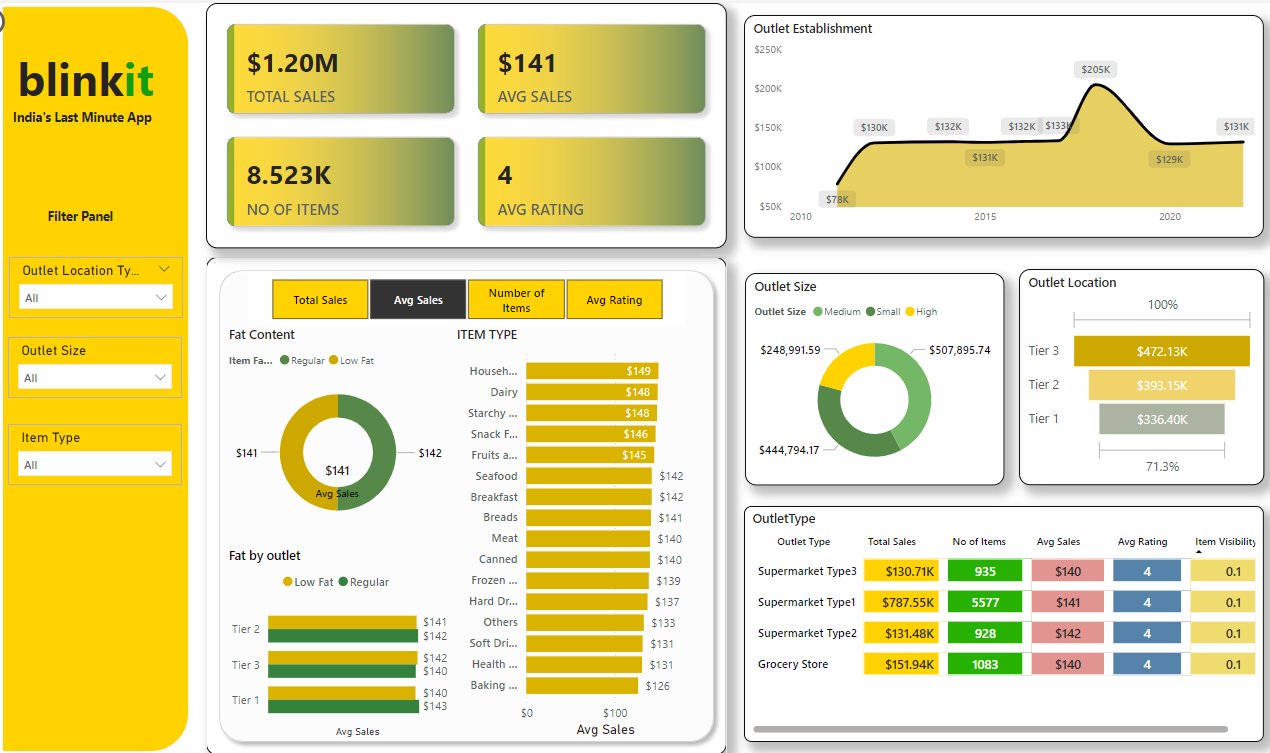

The page's visual inventory and layout, read from the dashboard file:
{"tool":"powerbi","page":{"name":"Page 1","canvas":[1400,800],"ordinal":0},"visuals":[{"type":"shape","box":[28.7,0,205.3,800],"z":0},{"type":"textbox","box":[18.1,41.5,205.3,79.8],"z":1000},{"type":"textbox","box":[38.3,107.4,166,27.7],"z":2000},{"type":"funnel","title":"Outlet Location","fields":{"Y":["BlinkIT Grocery Data.Total Sales"],"Category":["BlinkIT Grocery Data.Outlet Location Type"]},"box":[1113.8,283,260.6,229.8],"z":3000},{"type":"actionButton","box":[0,0,100,40],"z":4000},{"type":"shape","box":[248.9,270.2,554.3,529.8],"z":5000},{"type":"donutChart","title":"Fat Content","fields":{"Y":["BlinkIT Grocery Data.Avg Sales"],"Category":["BlinkIT Grocery Data.Item Fat Content"]},"box":[268.1,343.6,242.6,224.5],"z":6000},{"type":"slicer","fields":{"Values":["metrics.metrics"]},"box":[293.6,287.2,464.9,56.4],"z":7000},{"type":"cardVisual","fields":{"Data":["BlinkIT Grocery Data.Avg Sales"]},"box":[342.6,470.2,92.6,75.5],"z":8000},{"type":"clusteredBarChart","title":"Fat by outlet","fields":{"Y":["BlinkIT Grocery Data.Avg Sales"],"Series":["BlinkIT Grocery Data.Item Fat Content"],"Category":["BlinkIT Grocery Data.Outlet Location Type"]},"box":[268.1,578.7,242.6,207.4],"z":9000},{"type":"barChart","title":"ITEM TYPE","fields":{"Y":["BlinkIT Grocery Data.Avg Sales"],"Category":["BlinkIT Grocery Data.Item Type"]},"box":[510.6,343.6,266,442.6],"z":10000},{"type":"lineChart","title":" Outlet Establishment","fields":{"Y":["BlinkIT Grocery Data.Total Sales"],"Category":["BlinkIT Grocery Data.Outlet Establishment Year"]},"box":[821.3,12.8,553.2,237.2],"z":11000},{"type":"donutChart","title":"Outlet Size","fields":{"Y":["BlinkIT Grocery Data.Total Sales"],"Category":["BlinkIT Grocery Data.Outlet Size"]},"box":[822.3,287.2,275.5,225.5],"z":12000},{"type":"slicer","title":"Outlet Location","fields":{"Values":["BlinkIT Grocery Data.Outlet Location Type"]},"box":[39.4,270.2,185.1,64.9],"z":13000},{"type":"pivotTable","title":"OutletType","fields":{"Rows":["BlinkIT Grocery Data.Outlet Type"],"Values":["BlinkIT Grocery Data.Total Sales","BlinkIT Grocery Data.Number of Items","BlinkIT Grocery Data.Avg Sales","BlinkIT Grocery Data.Avg Rating","Avg(BlinkIT Grocery Data.Item Visibility)"]},"box":[821.3,535.1,553.2,251.1],"z":14000},{"type":"slicer","title":"Outlet Location","fields":{"Values":["BlinkIT Grocery Data.Outlet Size"]},"box":[38.3,355.3,185.1,64.9],"z":15000},{"type":"slicer","title":"Outlet Location","fields":{"Values":["BlinkIT Grocery Data.Item Type"]},"box":[38.3,447.9,185.1,64.9],"z":16000},{"type":"cardVisual","fields":{"Data":["BlinkIT Grocery Data.Total Sales","BlinkIT Grocery Data.Avg Sales","BlinkIT Grocery Data.Number of Items","BlinkIT Grocery Data.Avg Rating"]},"box":[248.9,0,554.3,260.6],"z":17000},{"type":"textbox","box":[50,212.8,134,37.2],"z":17001}]}

Visuals, with their boxes in screenshot pixels (x1, y1, x2, y2):
shape: Rect(10, 3, 200, 745)
textbox: Rect(0, 42, 191, 116)
textbox: Rect(19, 103, 173, 129)
"Outlet Location" funnel: Rect(1016, 266, 1258, 479)
actionButton: Rect(0, 3, 76, 40)
shape: Rect(214, 254, 728, 745)
"Fat Content" donutChart: Rect(232, 322, 457, 530)
slicer - metrics.metrics: Rect(256, 270, 687, 322)
cardVisual - BlinkIT Grocery Data.Avg Sales: Rect(301, 439, 387, 509)
"Fat by outlet" clusteredBarChart: Rect(232, 540, 457, 732)
"ITEM TYPE" barChart: Rect(457, 322, 704, 732)
" Outlet Establishment" lineChart: Rect(745, 15, 1258, 235)
"Outlet Size" donutChart: Rect(746, 270, 1002, 479)
"Outlet Location" slicer: Rect(20, 254, 192, 314)
"OutletType" pivotTable: Rect(745, 500, 1258, 732)
"Outlet Location" slicer: Rect(19, 333, 191, 393)
"Outlet Location" slicer: Rect(19, 419, 191, 479)
cardVisual - BlinkIT Grocery Data.Total Sales x BlinkIT Grocery Data.Avg Sales: Rect(214, 3, 728, 245)
textbox: Rect(30, 201, 154, 235)
